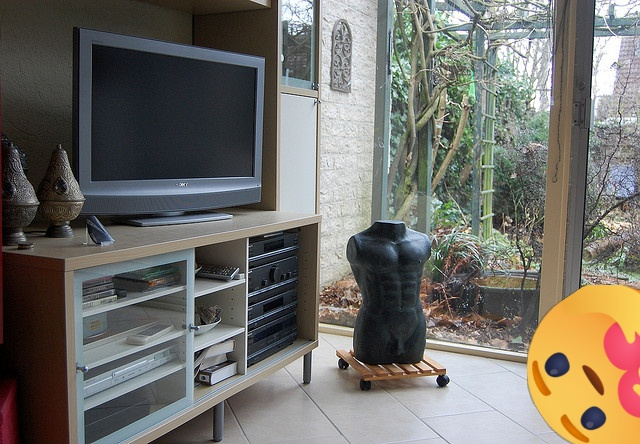care: (527, 285, 640, 444)
